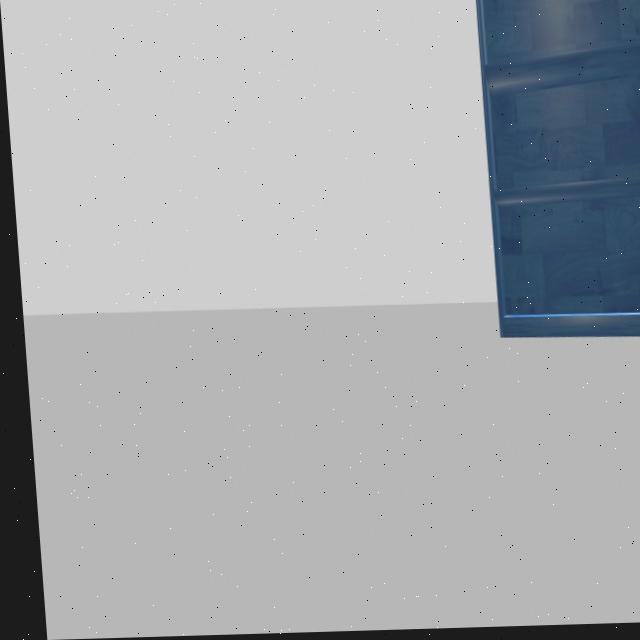shelf: (463, 0, 640, 364)
